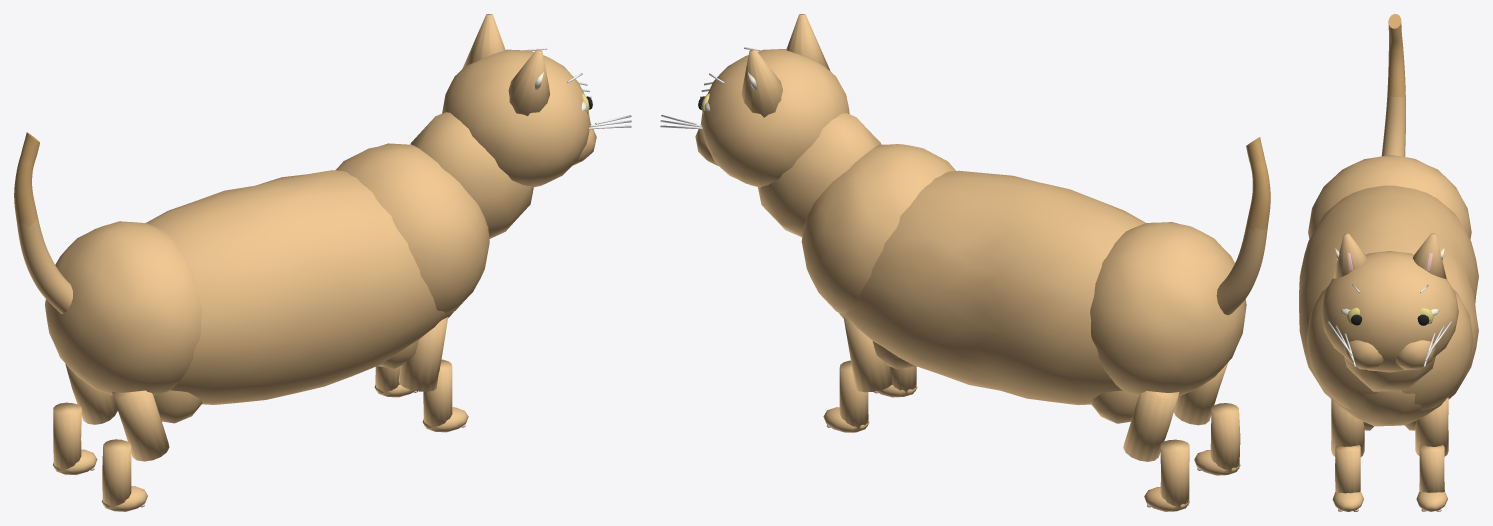
The model's file is cat.glb.
3 views of the same model, side by side, from view 1: azimuth 30°, elevation 25°; view 2: azimuth 150°, elevation 25°; view 3: azimuth 270°, elevation 25° (orthographic). The views are drawn at different scales.
Visible parts, largest first — view 1: CAT-body, CAT-head, CAT-tail, CAT-earR, CAT-earL; view 2: CAT-body, CAT-head, CAT-tail, CAT-earL, CAT-earR; view 3: CAT-body, CAT-head, CAT-tail, CAT-earL, CAT-earR.
Boxes of the visible parts, x1,y1,x2,y2 form: CAT-body: (45, 112, 533, 511); CAT-head: (442, 47, 631, 187); CAT-tail: (14, 132, 72, 313); CAT-earR: (508, 49, 549, 115); CAT-earL: (462, 14, 505, 68); CAT-body: (758, 112, 1246, 511); CAT-head: (660, 47, 849, 187); CAT-tail: (1216, 137, 1270, 315); CAT-earL: (741, 49, 782, 117); CAT-earR: (786, 14, 830, 70); CAT-body: (1299, 155, 1478, 511); CAT-head: (1321, 251, 1458, 372); CAT-tail: (1381, 14, 1405, 156); CAT-earL: (1412, 233, 1446, 278); CAT-earR: (1333, 233, 1366, 278).
Size of the model in its own units: 1.5 by 0.9029 by 0.4505.
